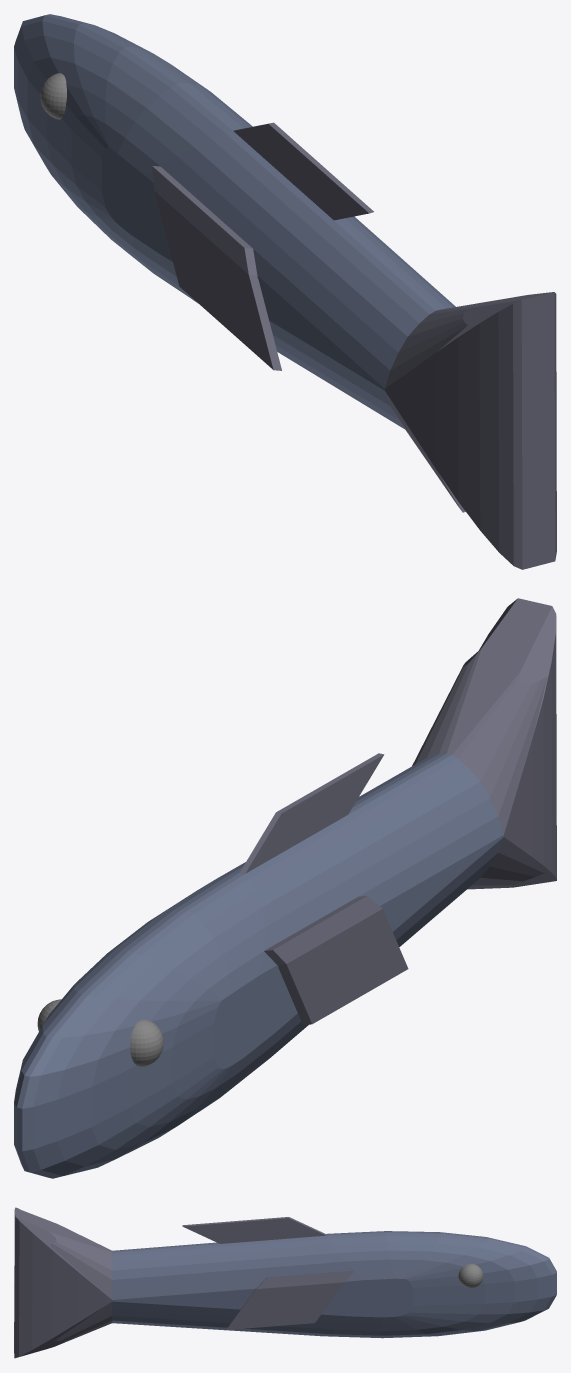
The model's file is le fishe.fbx.
3 views of the same model, one above another, from view 1: azimuth 30°, elevation 25°; view 2: azimuth 150°, elevation 25°; view 3: azimuth 270°, elevation 25° (orthographic). The views are drawn at different scales.
Visible parts, largest first — view 1: Cube, Sphere.001; view 2: Cube, Sphere.001; view 3: Cube, Sphere.
Part boxes in pixels (<box>): Cube: <box>14,14,556,569</box>; Sphere.001: <box>40,73,66,119</box>; Cube: <box>14,598,556,1178</box>; Sphere.001: <box>130,1019,163,1066</box>; Cube: <box>14,1207,556,1358</box>; Sphere: <box>458,1264,483,1288</box>.
Bounding box in the file's own units: 5.19 × 10.75 × 37.11.
